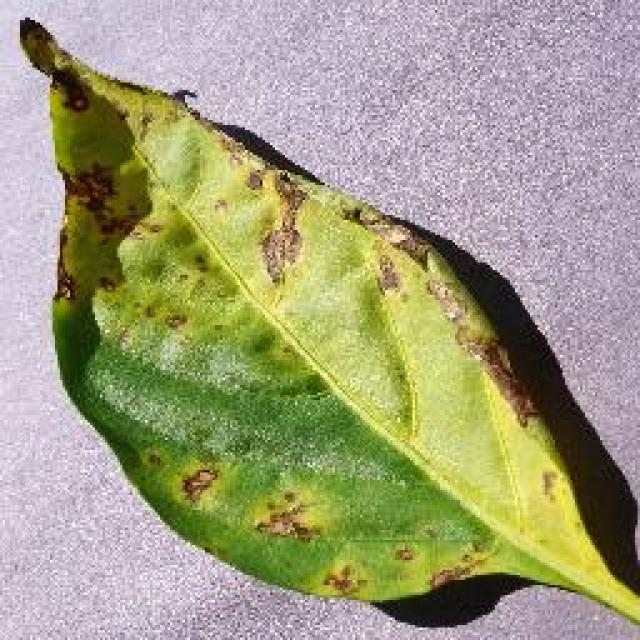Chilli_Bacterial_Spot: (12, 12, 638, 632), (250, 165, 312, 287), (248, 485, 322, 547), (58, 157, 120, 215), (255, 220, 305, 285), (48, 68, 92, 118), (175, 462, 220, 508), (315, 560, 363, 600), (533, 465, 565, 507), (388, 540, 418, 568), (137, 448, 165, 472)
